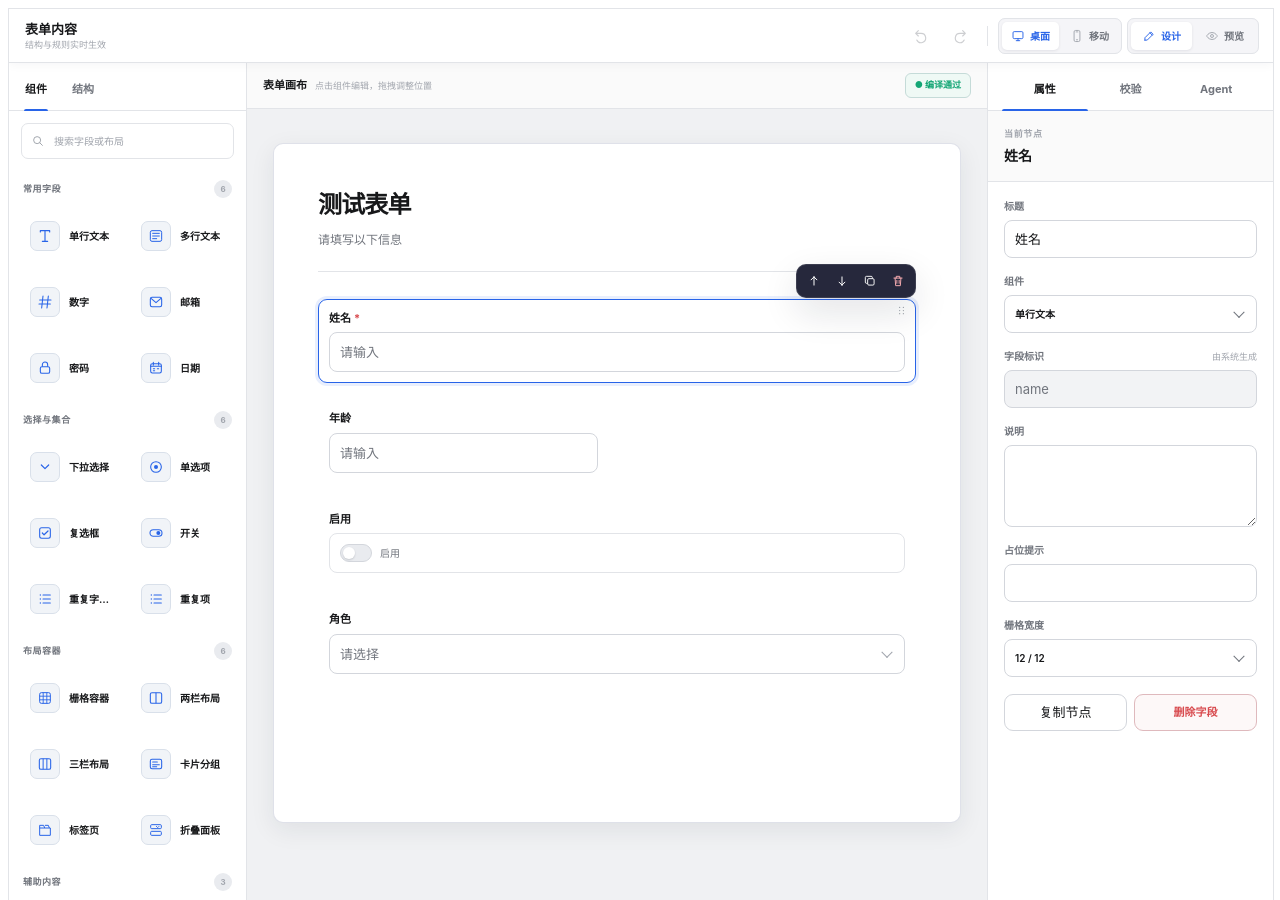
Test: React FormDesigner › filters the component catalog and recovers from an empty search
This screenshot has width=1280, height=900.
Type "日期" into the field named "搜索组件".
click(138, 141); type("日期")  # box [52,132,224,150]
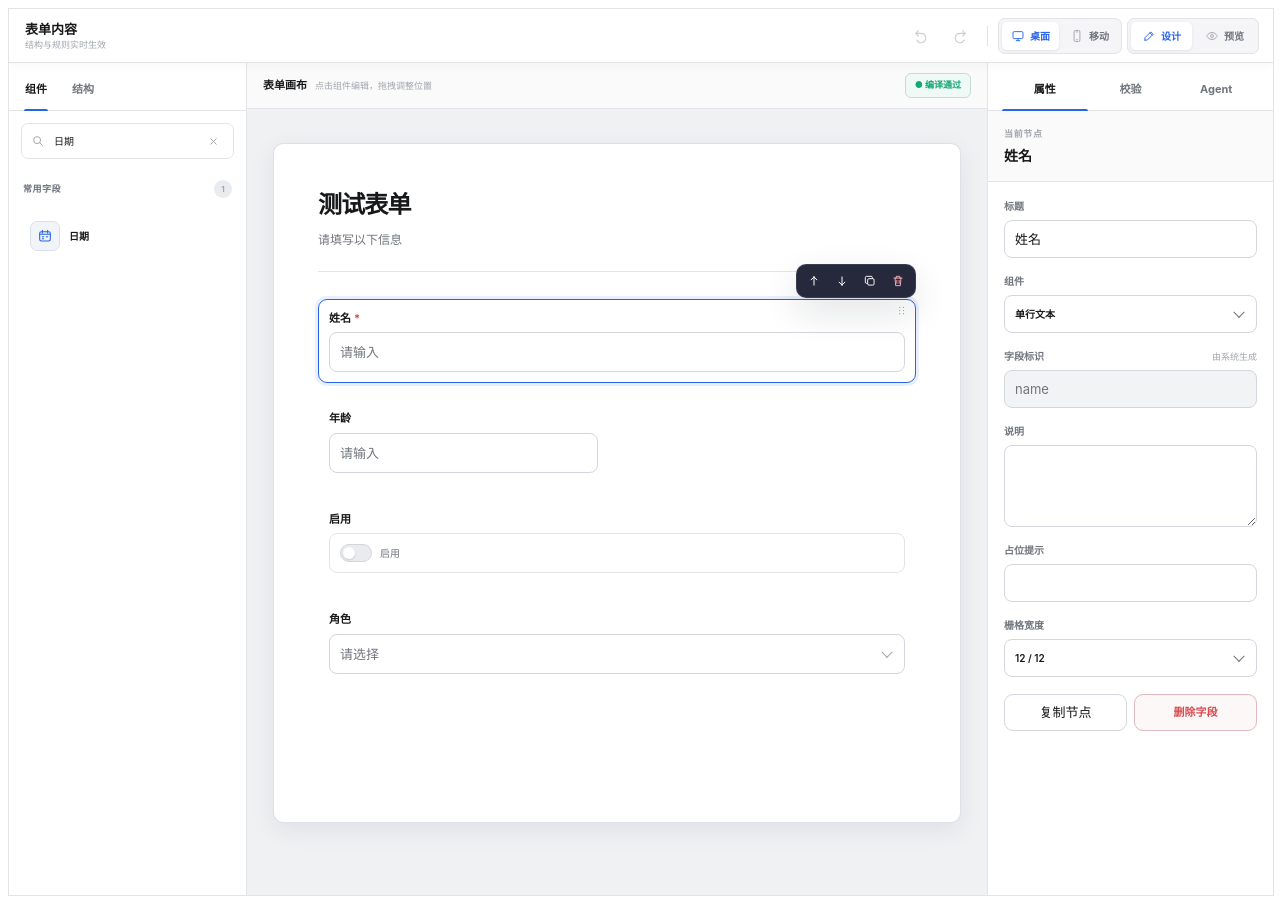
Expected: the button with aria-label "添加日期字段" is shown, [20,206,124,265]
Now the button "添加邮箱字段" is gone
Replace the text in the field named "搜索组件" with "不存在的组件" at (124, 141), box [52,132,195,150]
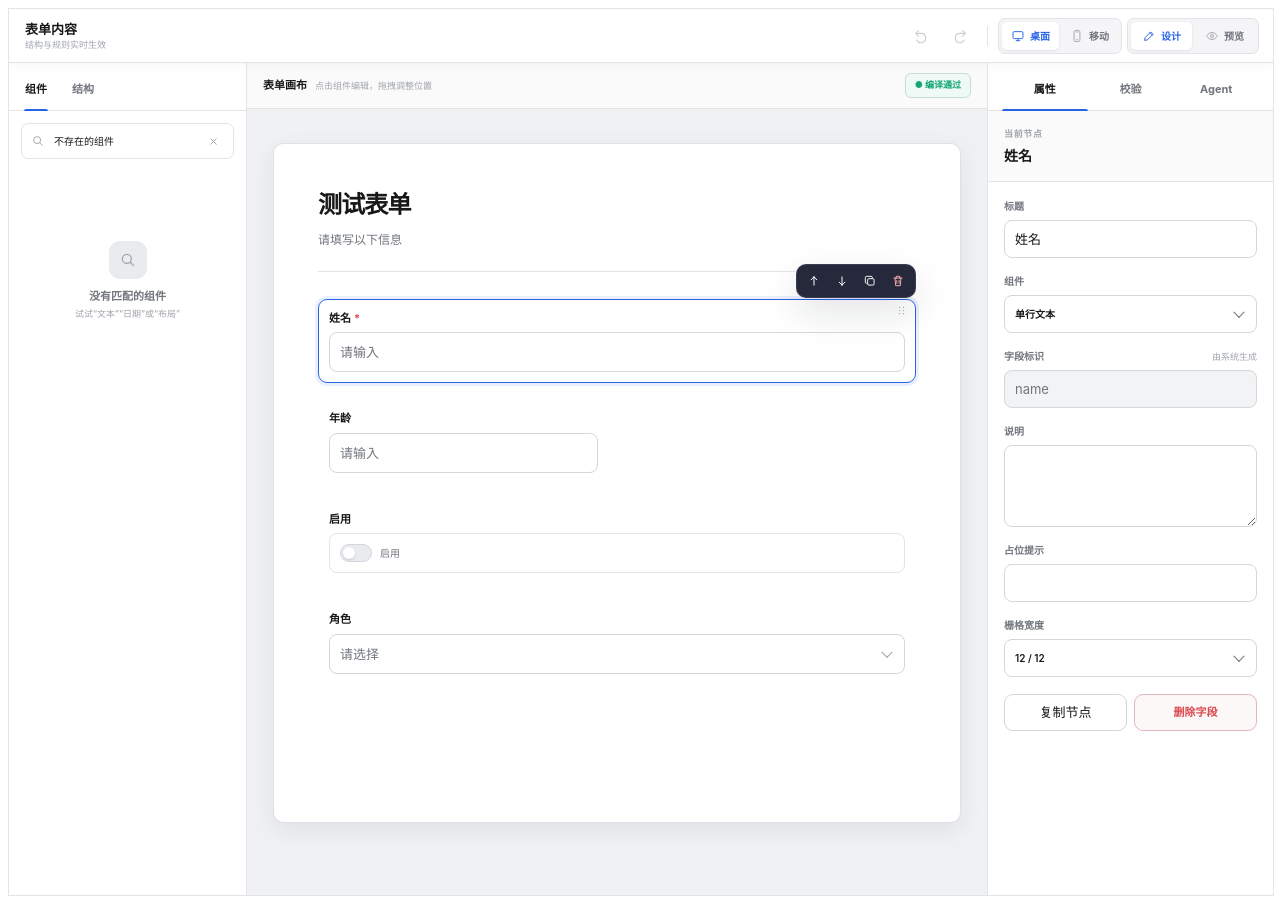
Now the text "没有匹配的组件" is shown, box [89,288,166,305]
Click the button named "清空组件搜索".
click(213, 141)  # box [202,130,224,152]
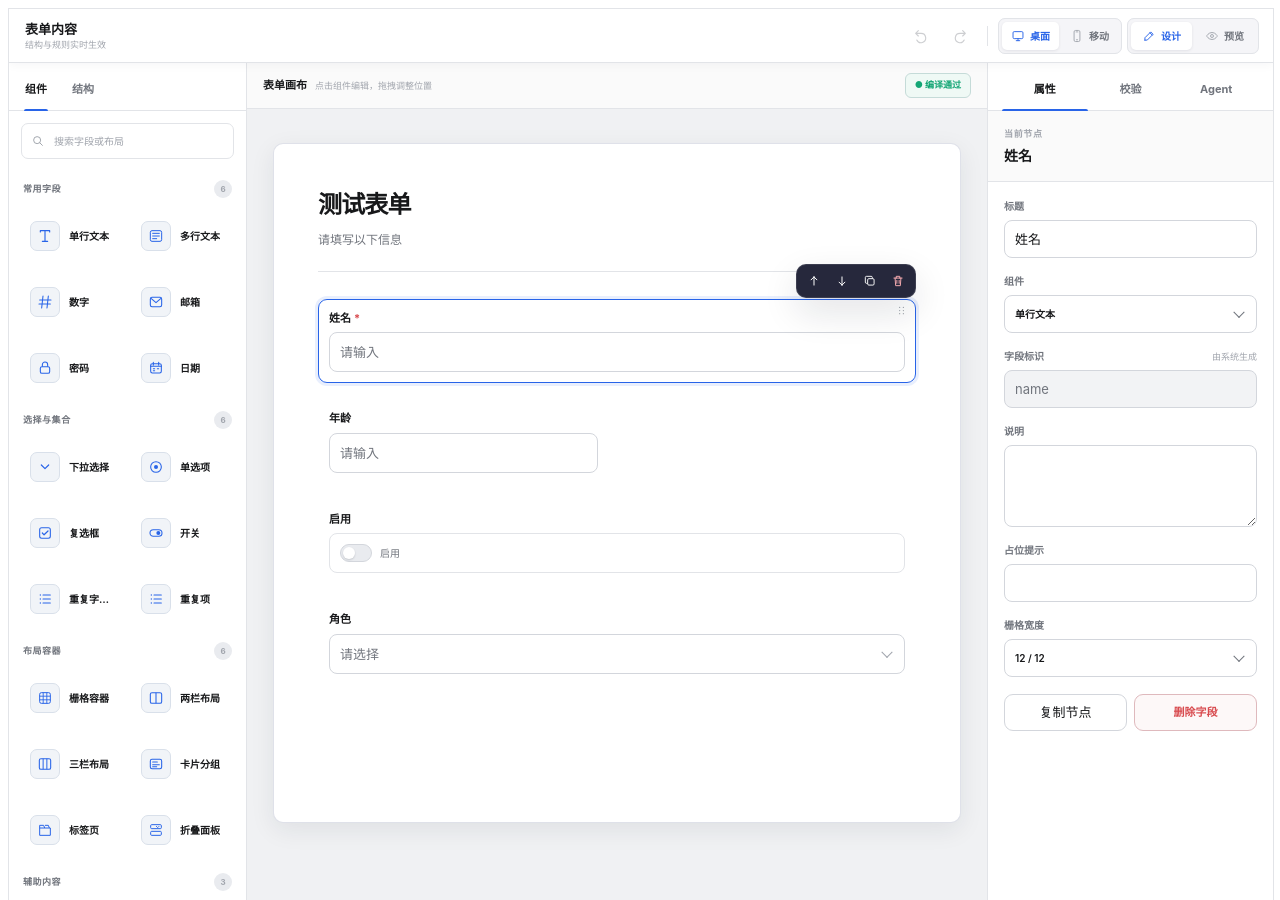
Now the button with aria-label "添加邮箱字段" is shown, box [131,272,235,331]
